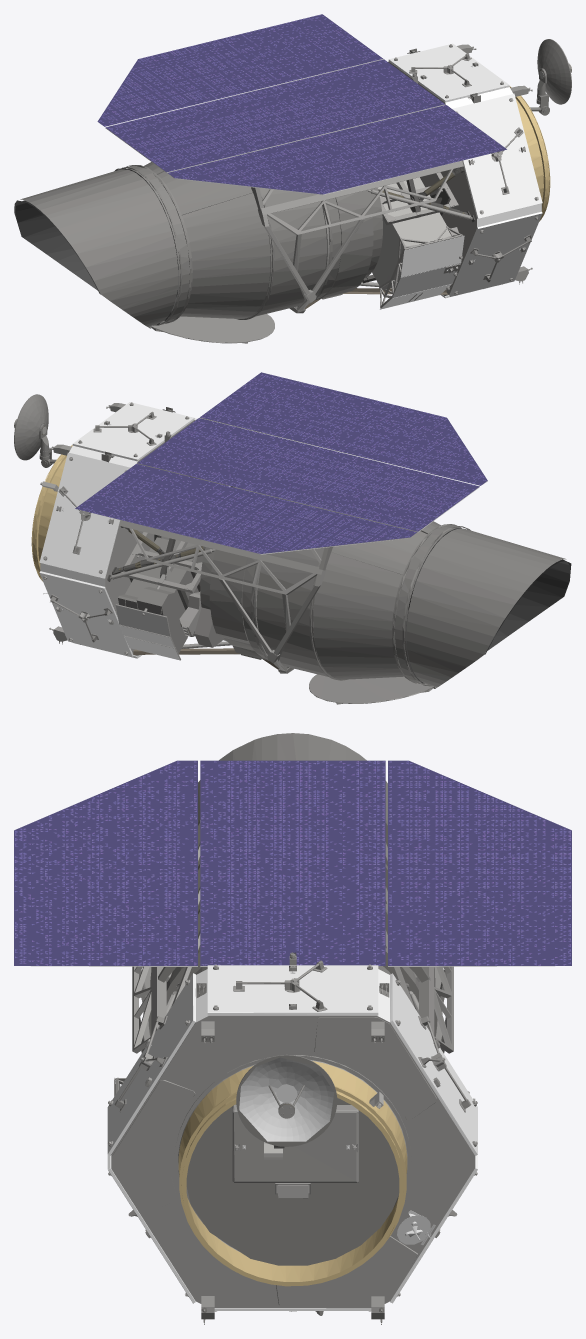
The model's file is roman.glb.
The picture shows the model from 3 angles, top to bottom: view 1: azimuth 30°, elevation 25°; view 2: azimuth 150°, elevation 25°; view 3: azimuth 270°, elevation 25°; orthographic projection. The views are drawn at different scales.
Parts seen in each view (by area): view 1: sass (×9), barrel (×4), bus (×3), instr (×4), cover, hga; view 2: sass (×9), barrel (×4), bus (×3), instr (×5), cover, hga; view 3: sass (×8), bus (×6), hga (×2), instr (×2), barrel (×2).
Boxes of the visible parts, x1,y1,x2,y2 form: sass (×9): (97,14,506,195); barrel (×4): (14,162,382,326); bus (×3): (386,43,550,298); instr (×4): (258,53,495,309); cover: (148,314,274,343); hga: (536,39,571,115); sass (×9): (75,372,487,554); barrel (×4): (194,487,571,687); bus (×3): (31,402,212,658); instr (×5): (87,410,326,673); cover: (309,674,436,704); hga: (14,394,52,467); sass (×8): (14,760,571,965); bus (×6): (107,965,477,1324); hga (×2): (236,1054,337,1148); instr (×2): (109,886,476,1106); barrel (×2): (149,733,436,1036).
Bounding box in the file's own units: 344 × 131 × 207.
